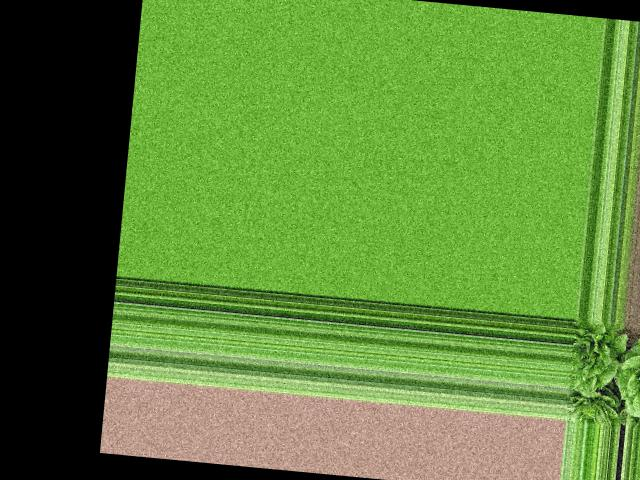lettuce: (566, 320, 622, 399)
